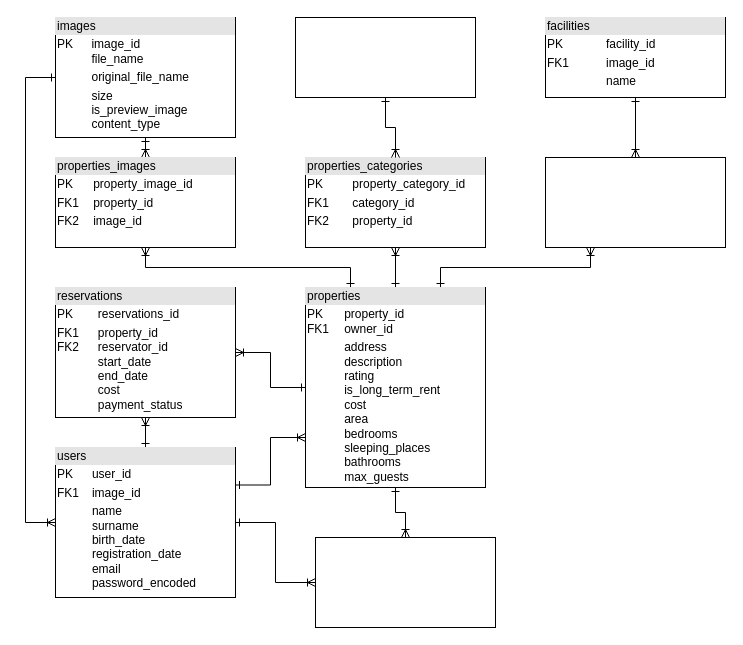
Image size: 743x645. Some labels were removed from this diagram. The centre of each missing label's shape, as x and y in pixels:
categories PK FK category_id image_id name: point (385, 57)
favourites PK favourite_id FK1 FK2 property_id user_id: point (405, 582)
properties_facilities PK property_facility_id FK1 category_id FK2 facility_id: point (635, 202)
